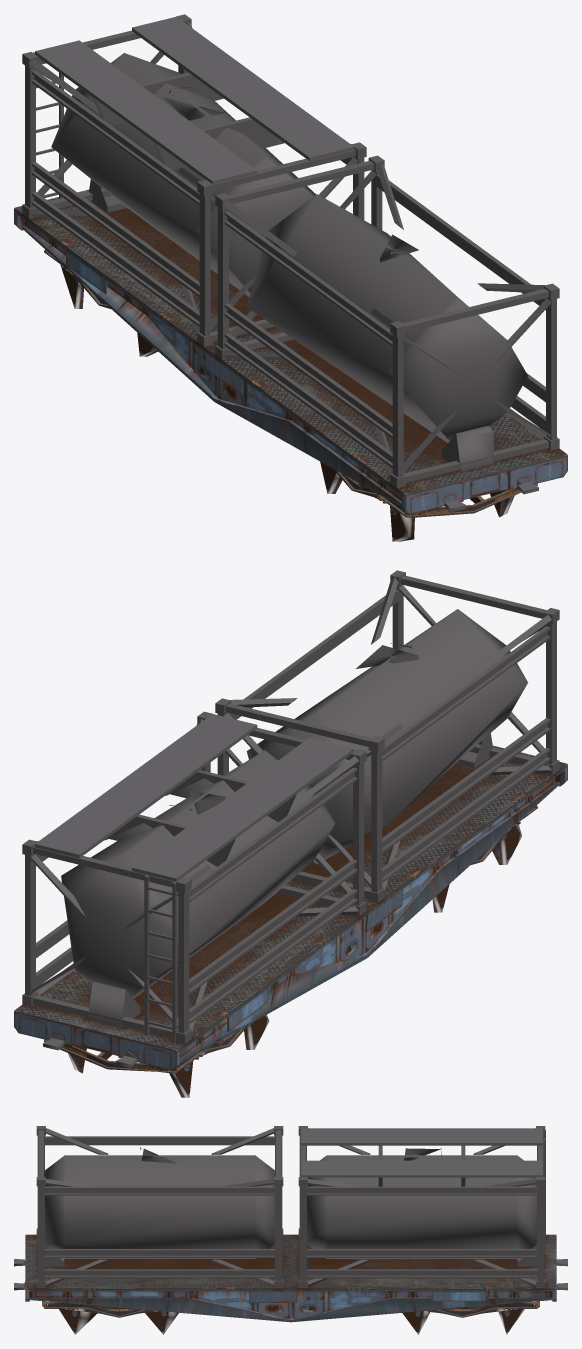
File: rail-tank.lod0.glb
3 renders of one model, top to bottom at view 1: azimuth 30°, elevation 25°; view 2: azimuth 150°, elevation 25°; view 3: azimuth 270°, elevation 25°, orthographic. The views are drawn at different scales.
Visible parts, largest first — view 1: WagonLow_Cistern_0, WagonLow_Wagon_0; view 2: WagonLow_Cistern_0, WagonLow_Wagon_0; view 3: WagonLow_Cistern_0, WagonLow_Wagon_0.
Boxes of the visible parts, left/top/right/bottom form: WagonLow_Cistern_0: left=22, top=14, right=559, bottom=511; WagonLow_Wagon_0: left=14, top=189, right=567, bottom=541; WagonLow_Cistern_0: left=22, top=570, right=559, bottom=1067; WagonLow_Wagon_0: left=14, top=745, right=567, bottom=1097; WagonLow_Cistern_0: left=14, top=1126, right=567, bottom=1290; WagonLow_Wagon_0: left=25, top=1234, right=556, bottom=1334.
Size of the model in its own units: 2.6 by 3.74 by 11.26.
Materials: 2 (1 with a texture image).
